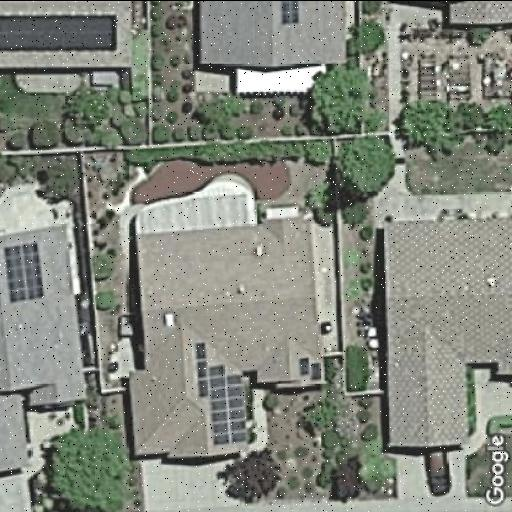solar-panel: (190, 340, 248, 446), (0, 9, 119, 56), (0, 240, 48, 304), (275, 2, 303, 28), (295, 353, 313, 377)
